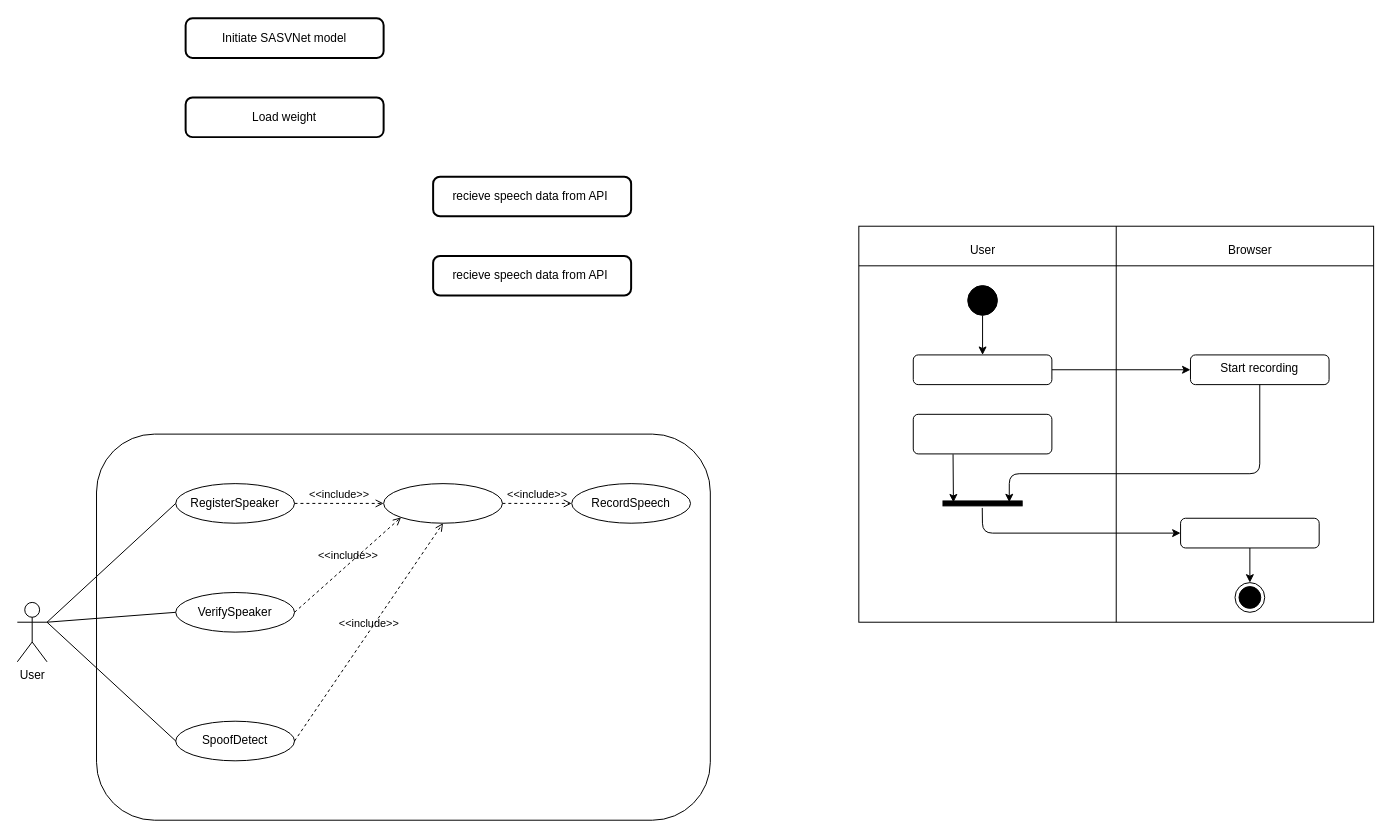
The diagram is 1391 pixels wide and 838 high, and some of its shapes have lost their labels. The centre of each missing label's shape, as x and y in pixels:
Click on "Record" button: point 982,369
Click on "Record" button 2nd time: point 982,433
Stop recording: point 1249,532
UploadSpeech: point 442,503
